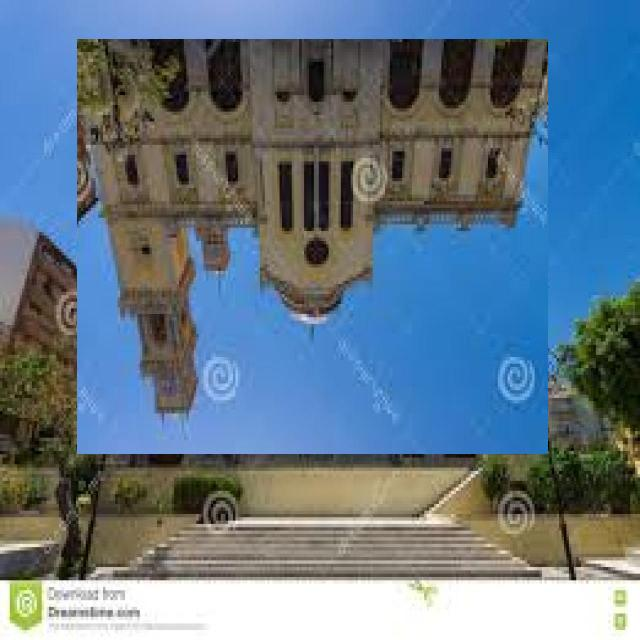Agios Minas: (78, 40, 549, 455)
